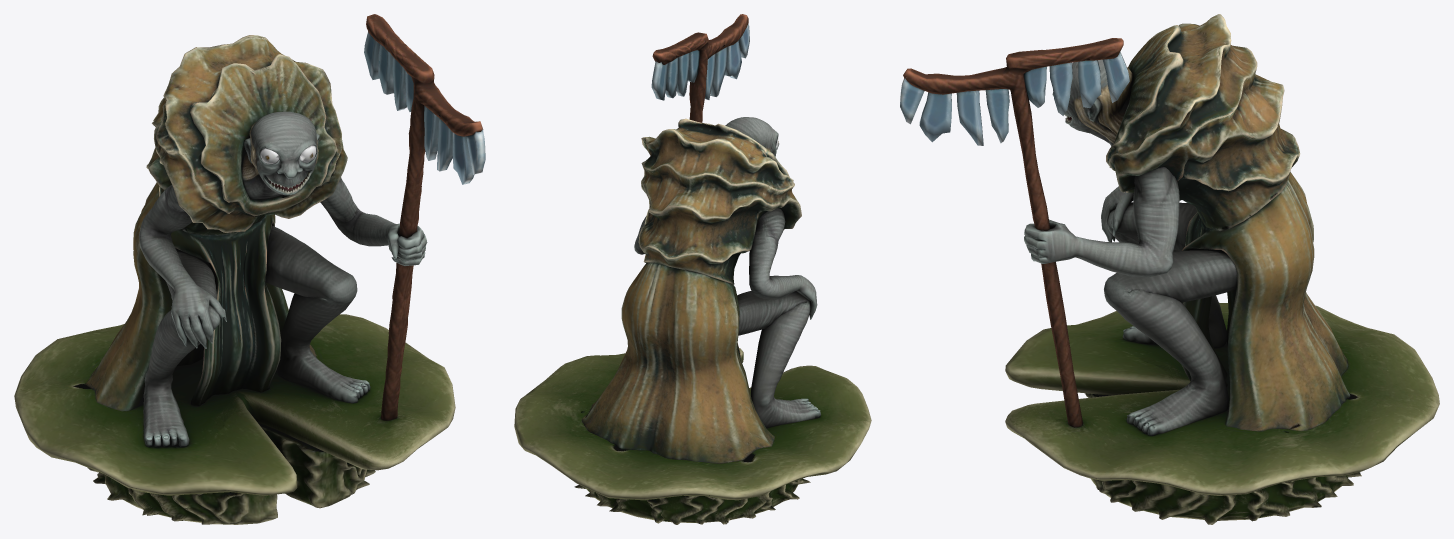
The model's file is MZ4250 - Bavlorna Blightstraw.glb.
3 views of the same model, side by side, from view 1: azimuth 30°, elevation 25°; view 2: azimuth 150°, elevation 25°; view 3: azimuth 270°, elevation 25° (orthographic). The views are drawn at different scales.
Visible parts, largest first — view 1: body_low.001, lilypad_low.001, thing_low.001, lilypadthing_low.001, staff_low.001, staffthing_low.001; view 2: body_low.001, lilypad_low.001, thing_low.001, lilypadthing_low.001, staffthing_low.001, staff_low.001; view 3: body_low.001, lilypad_low.001, thing_low.001, staff_low.001, staffthing_low.001, lilypadthing_low.001.
Part boxes in pixels (x1,y1,x2,y2): body_low.001: (84,111,427,447); lilypad_low.001: (14,314,455,495); thing_low.001: (146,35,347,235); lilypadthing_low.001: (87,424,375,524); staff_low.001: (366,14,483,420); staffthing_low.001: (364,31,485,184); body_low.001: (582,117,820,463); lilypad_low.001: (514,348,871,500); thing_low.001: (638,118,801,284); lilypadthing_low.001: (574,478,810,524); staffthing_low.001: (651,23,749,100); staff_low.001: (652,14,748,122); body_low.001: (1024,59,1350,436); lilypad_low.001: (1005,302,1439,495); thing_low.001: (1106,14,1300,230); staff_low.001: (903,38,1123,427); staffthing_low.001: (900,52,1129,145); lilypadthing_low.001: (1085,393,1361,524).
Size of the model in its own units: 5.8 by 6.76 by 7.06.
1 material, 1 textured.
